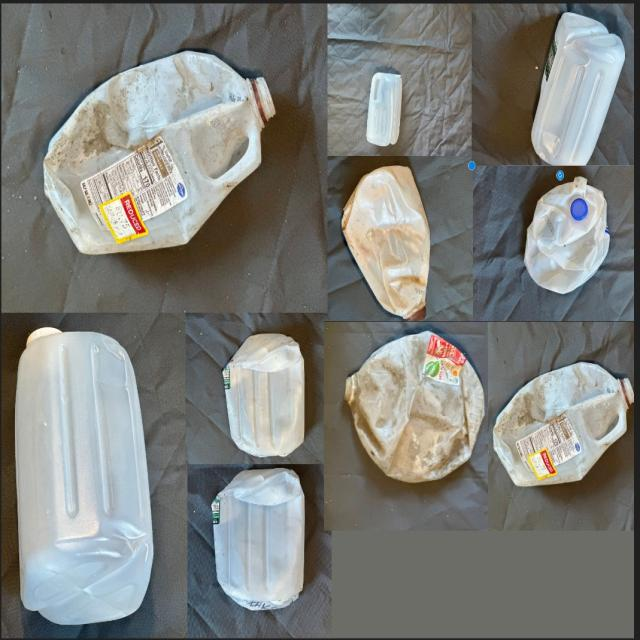milk-jug: (41, 54, 275, 256), (15, 326, 151, 624), (346, 332, 486, 489), (497, 362, 624, 491), (338, 161, 435, 318), (533, 8, 621, 169), (208, 472, 306, 612), (222, 330, 307, 460), (519, 176, 611, 294), (361, 69, 406, 147)
